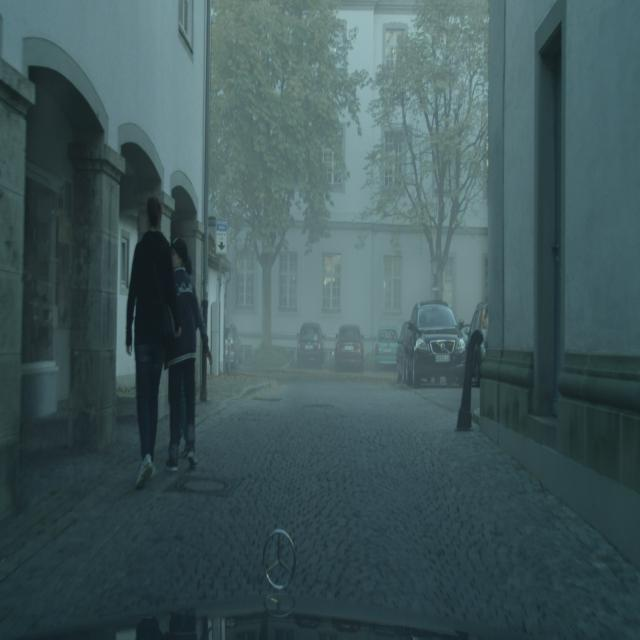bus: (125, 195, 180, 489), (165, 237, 212, 472)
person: (396, 301, 467, 388), (461, 301, 488, 385), (334, 324, 365, 372), (296, 321, 325, 369), (374, 324, 399, 369), (224, 323, 243, 371)
